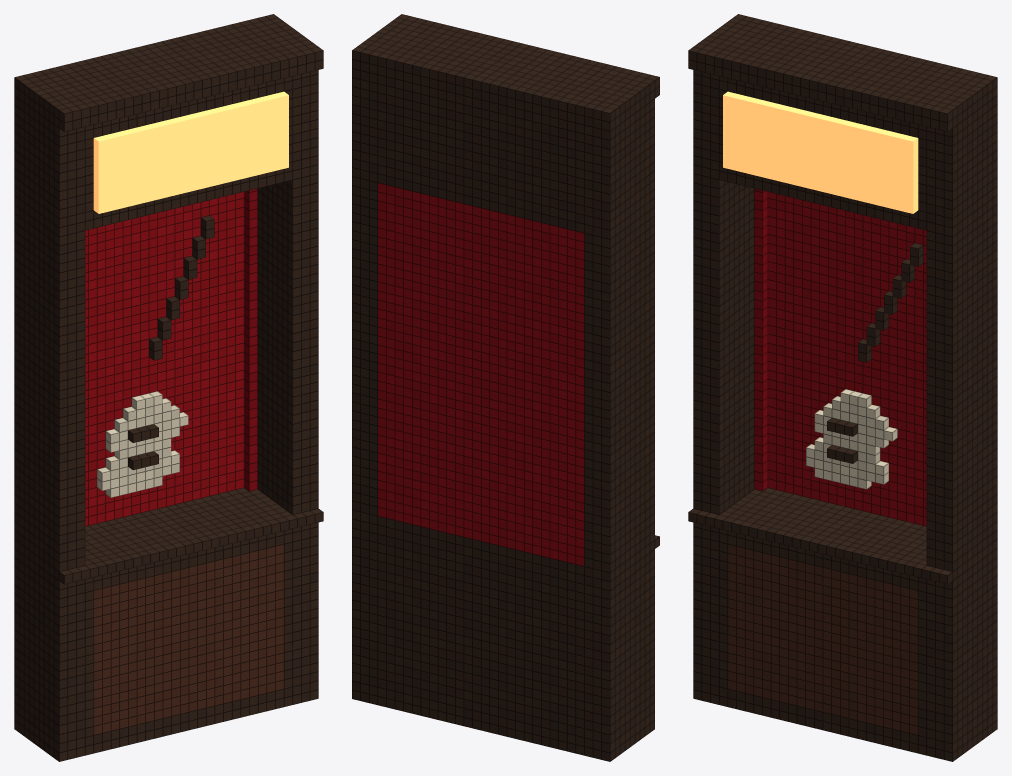
The model's file is back_bar_art.glb.
3 renders of one model, left to right at view 1: azimuth 30°, elevation 25°; view 2: azimuth 150°, elevation 25°; view 3: azimuth 330°, elevation 25°, orthographic.
Visible parts, largest first — view 1: back_bar_art; view 2: back_bar_art; view 3: back_bar_art.
Part boxes in pixels (<box>): back_bar_art: <box>14,14,323,761</box>; back_bar_art: <box>352,14,659,761</box>; back_bar_art: <box>688,14,997,761</box>.
Size of the model in its own units: 1.5 by 3.6 by 0.5.
6 materials, 5 textured.
